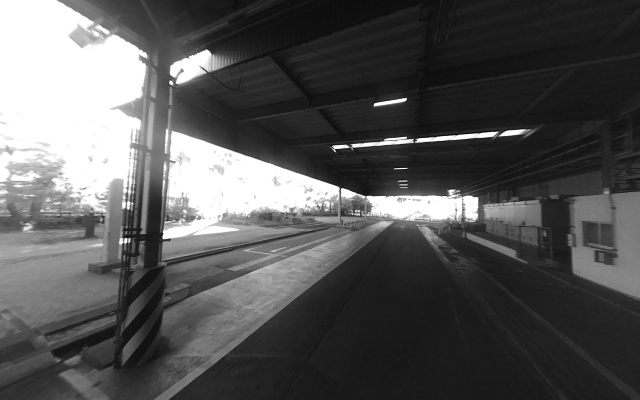bollard: (116, 263, 166, 371)
